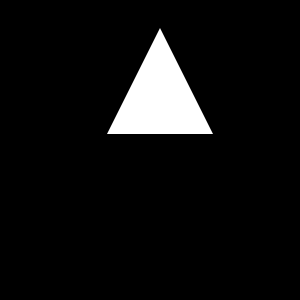triangle: (107, 28, 213, 134)
